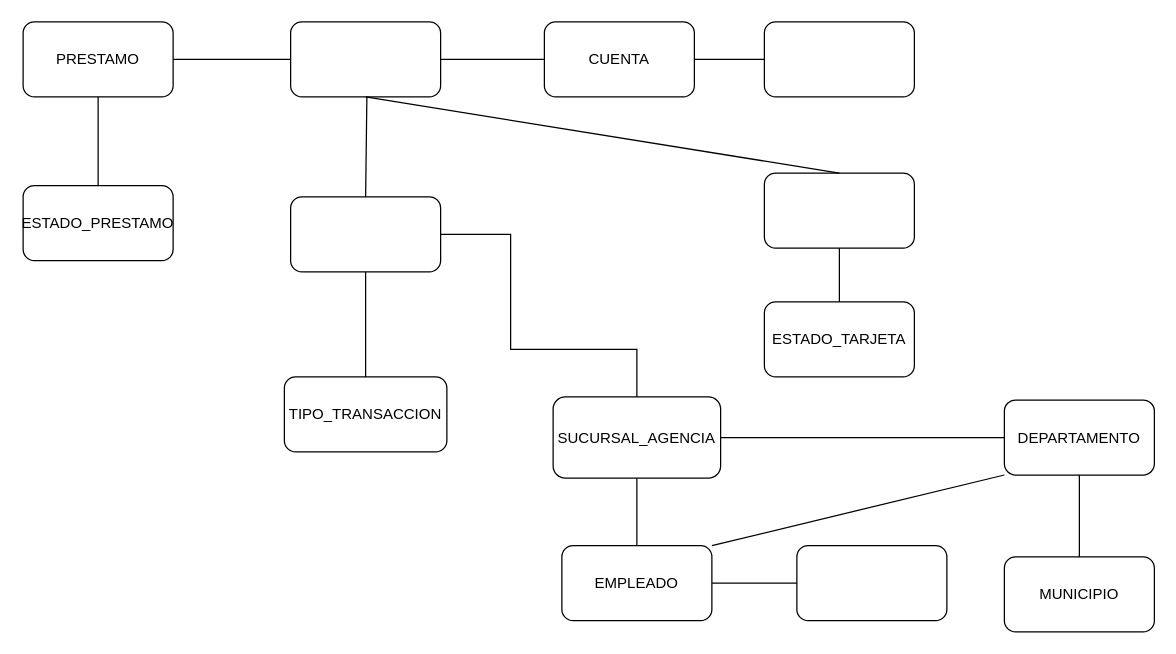
Some shapes in this 1176 by 654 pixel diagram are drawn without their labels. Each missing label, with the box of its shape:
CLIENTE: (289, 21, 441, 97)
ROL: (796, 544, 947, 621)
TARJETA_CREDITO: (763, 172, 914, 248)
TIPO_CUENTA: (763, 21, 914, 97)
TRANSACCION: (289, 196, 441, 272)
